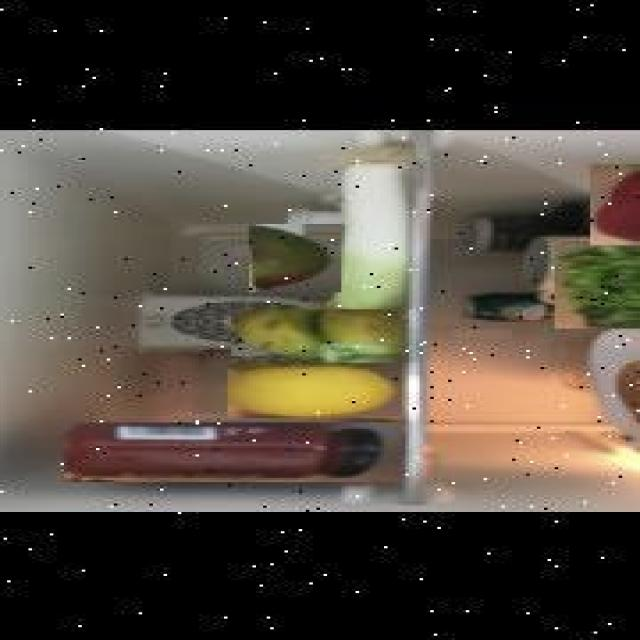banana: (231, 307, 423, 361)
bell_pepper: (590, 162, 640, 243)
leek: (315, 146, 421, 308)
lemon: (228, 359, 402, 415)
mango: (251, 221, 343, 289)
salad: (554, 238, 640, 326)
tomato_sauce: (64, 420, 402, 480)
